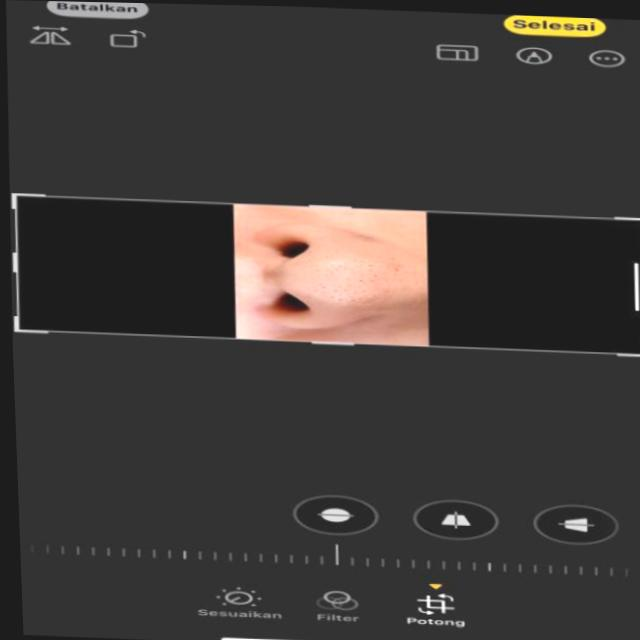blackhead: (290, 252, 388, 306)
